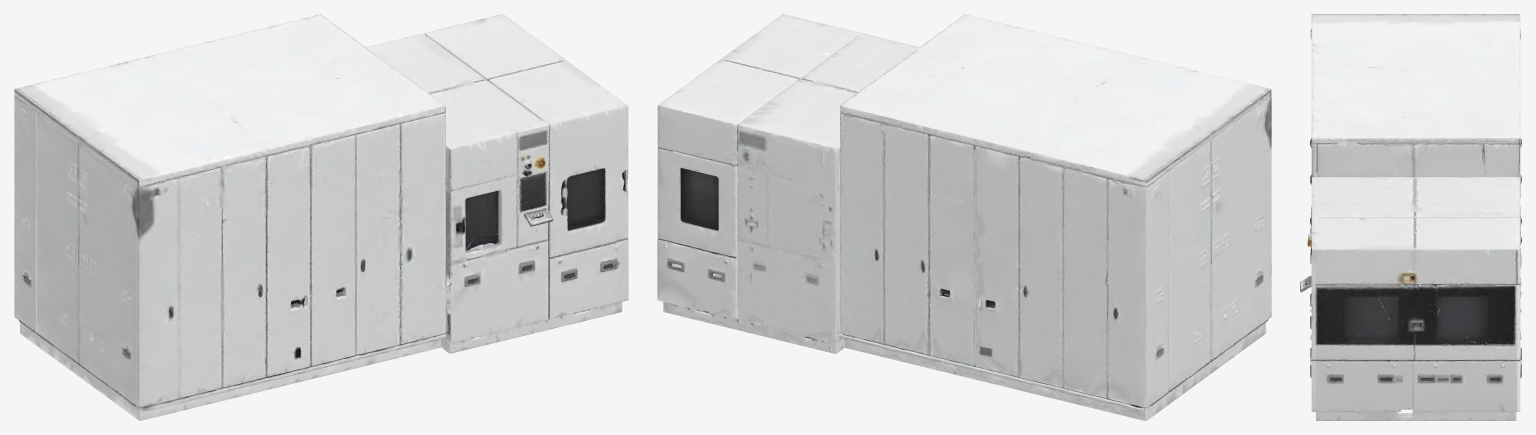
Rendered from automation_cell.glb.
3 renders of one model, left to right at view 1: azimuth 30°, elevation 25°; view 2: azimuth 150°, elevation 25°; view 3: azimuth 270°, elevation 25°, orthographic. The views are drawn at different scales.
Bounding box in the file's own units: 1.89 × 0.9318 × 0.8861.
1 material, 1 textured.
